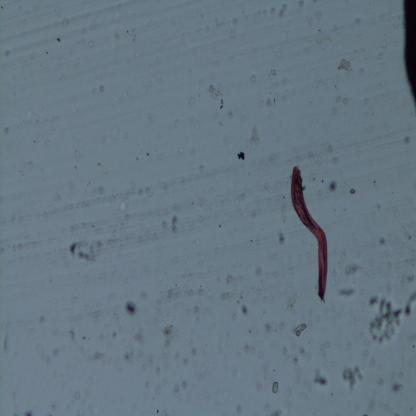Background material: (368, 284, 416, 344), (68, 238, 104, 262), (290, 340, 310, 369), (341, 366, 364, 390), (111, 190, 130, 216), (134, 346, 154, 370), (168, 210, 182, 236), (314, 33, 336, 47), (312, 372, 330, 389), (159, 322, 176, 340), (344, 262, 363, 278), (337, 284, 358, 298), (278, 195, 288, 224), (206, 85, 223, 102), (336, 58, 356, 72), (263, 404, 286, 416), (67, 216, 83, 233), (92, 347, 108, 364), (123, 342, 136, 362), (166, 286, 182, 302), (170, 380, 188, 394), (0, 338, 13, 357), (123, 301, 138, 317), (402, 271, 415, 289), (184, 281, 198, 297), (134, 326, 146, 344), (285, 292, 297, 310), (390, 381, 406, 394), (263, 96, 279, 109), (294, 322, 308, 336), (68, 331, 78, 350), (250, 122, 258, 145), (277, 0, 287, 17), (222, 272, 235, 285), (253, 264, 265, 278), (328, 180, 340, 194), (80, 198, 96, 208), (93, 302, 101, 322), (233, 191, 246, 203), (137, 188, 151, 198), (20, 407, 35, 416), (262, 322, 273, 334), (277, 230, 286, 244), (236, 150, 247, 161), (336, 96, 348, 106), (378, 233, 386, 248), (60, 17, 69, 30), (402, 134, 413, 144), (242, 342, 251, 354), (73, 147, 82, 159), (110, 329, 119, 341), (272, 381, 280, 394), (326, 143, 334, 156), (330, 103, 338, 116), (154, 364, 162, 377), (24, 160, 32, 172), (36, 315, 44, 327), (404, 231, 412, 243), (68, 290, 77, 300), (162, 340, 172, 349), (269, 68, 278, 78), (349, 184, 357, 195), (242, 306, 249, 318), (99, 81, 105, 95), (237, 402, 243, 416), (96, 186, 106, 194), (74, 390, 82, 400), (193, 304, 201, 314), (182, 358, 190, 367), (190, 348, 198, 357), (197, 162, 204, 172), (146, 380, 153, 390), (51, 348, 58, 358), (333, 156, 340, 166), (221, 293, 229, 301), (5, 126, 12, 134), (89, 222, 97, 229), (375, 202, 382, 210), (237, 294, 242, 305), (18, 242, 24, 251), (298, 2, 306, 8), (44, 140, 50, 147), (20, 168, 24, 177), (161, 222, 167, 228), (31, 138, 37, 144), (90, 88, 96, 94), (97, 161, 101, 167), (82, 336, 86, 341), (57, 37, 61, 42), (46, 358, 50, 363)
Cotton: (290, 162, 330, 300)
Pen: (401, 0, 416, 110)
